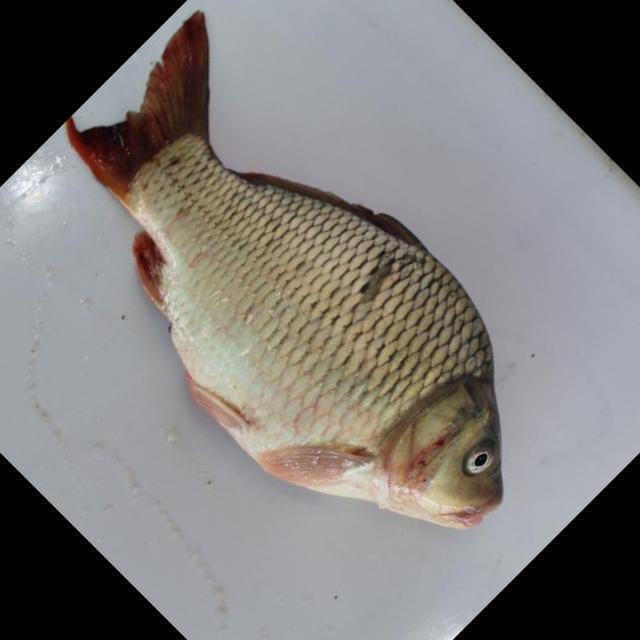CommonCarp: (60, 13, 541, 542)
